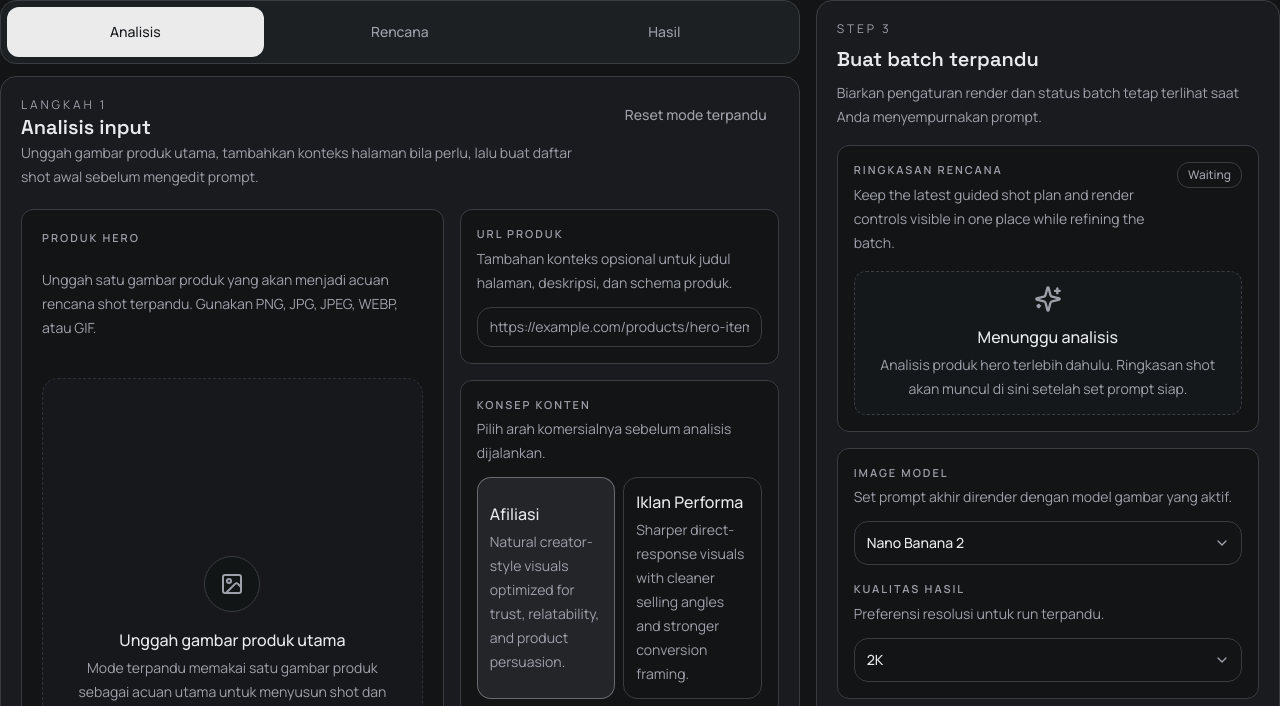
Test: GuidedWorkspace › translates guided analyze, plan, and results copy when the active locale is Indonesian
Check: the heading "Analisis input" is shown, box [21,114,151,140]
Check: the button "Reset mode terpandu" is shown, box [613,97,779,133]
Press the mouse on the tab "Rencana" at coordinates (400, 32), box [272,7,528,57]
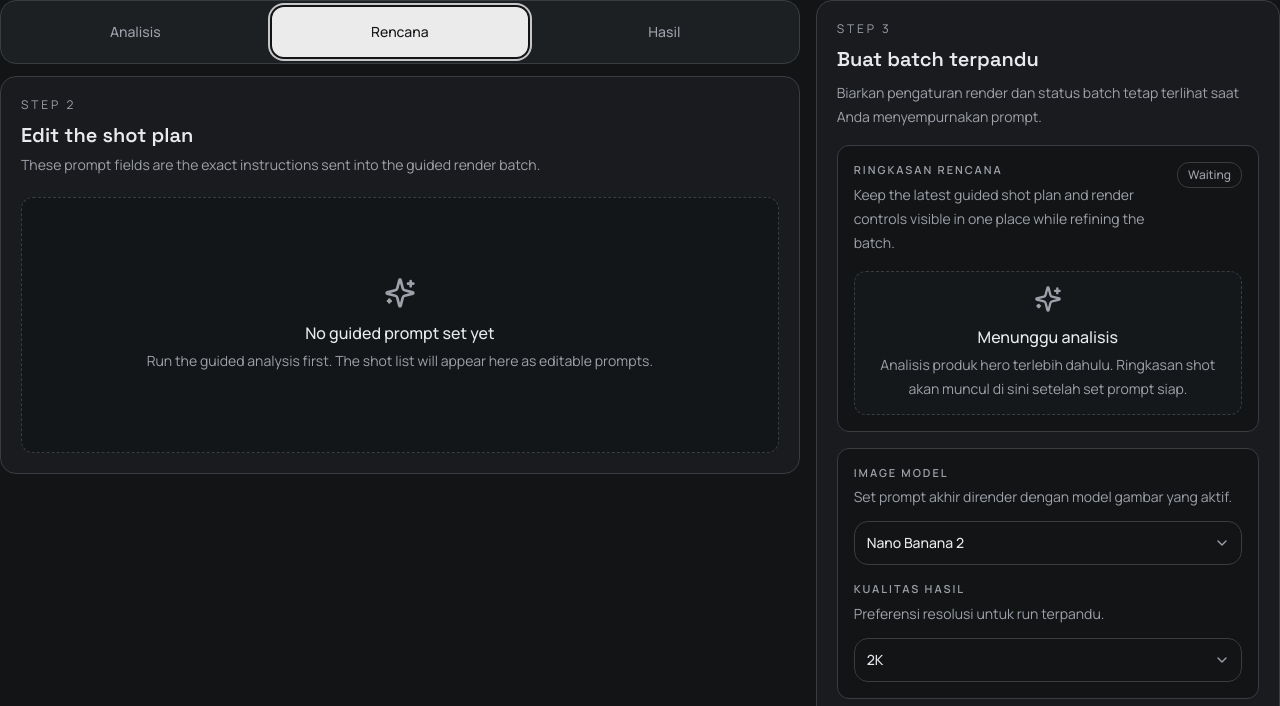
Click the tab "Rencana".
click(400, 32)  # box [272,7,528,57]
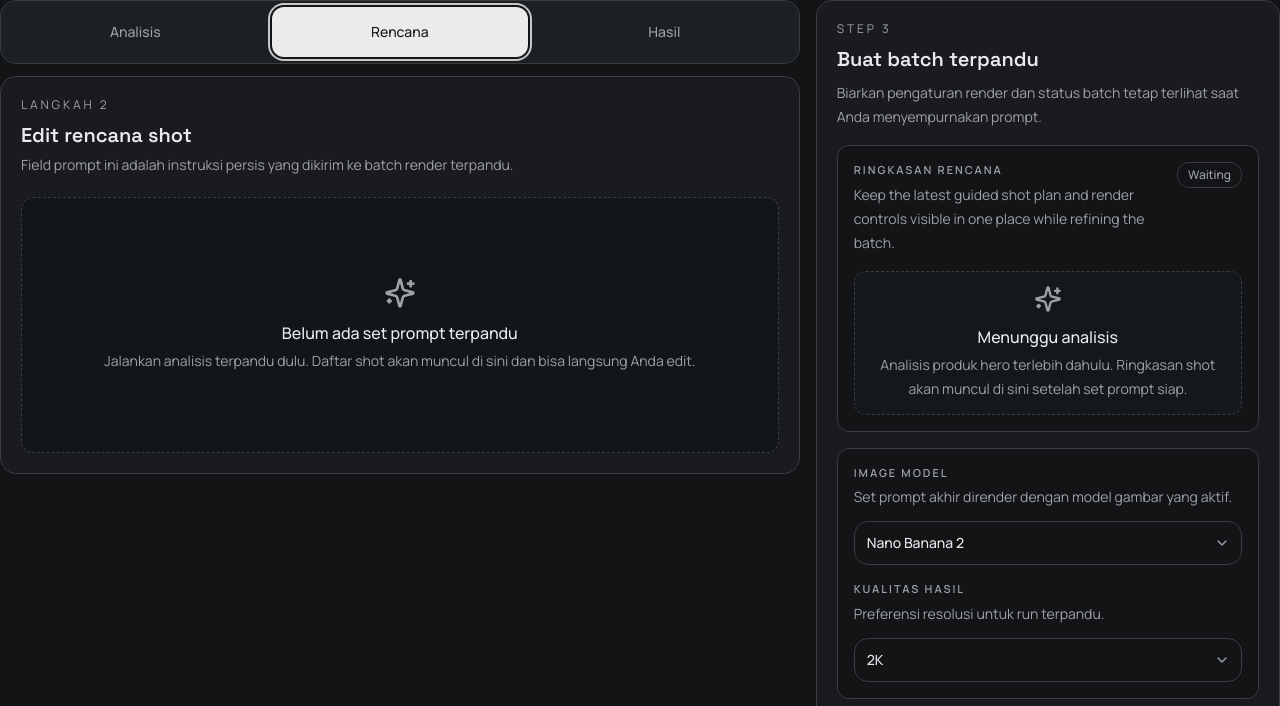
Check: the text "Belum ada set prompt terpandu" is shown, box [282,322,518,344]
Check: the text "Jalankan analisis terpandu dulu. Daftar shot akan muncul di sini dan bisa langsung Anda edit." is shown, box [104,351,695,370]
Press the mouse on the tab "Hasil" at coordinates (664, 32), box [536,7,793,57]
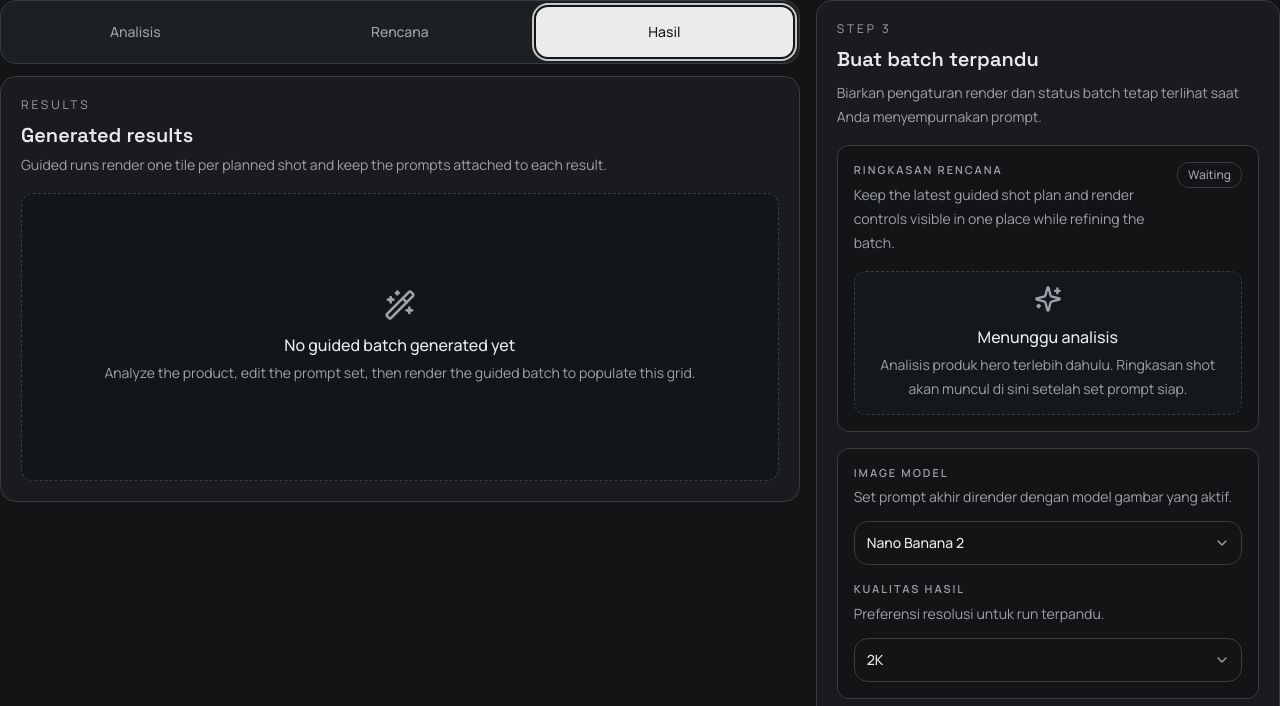
Click the tab "Hasil".
click(664, 32)  # box [536,7,793,57]
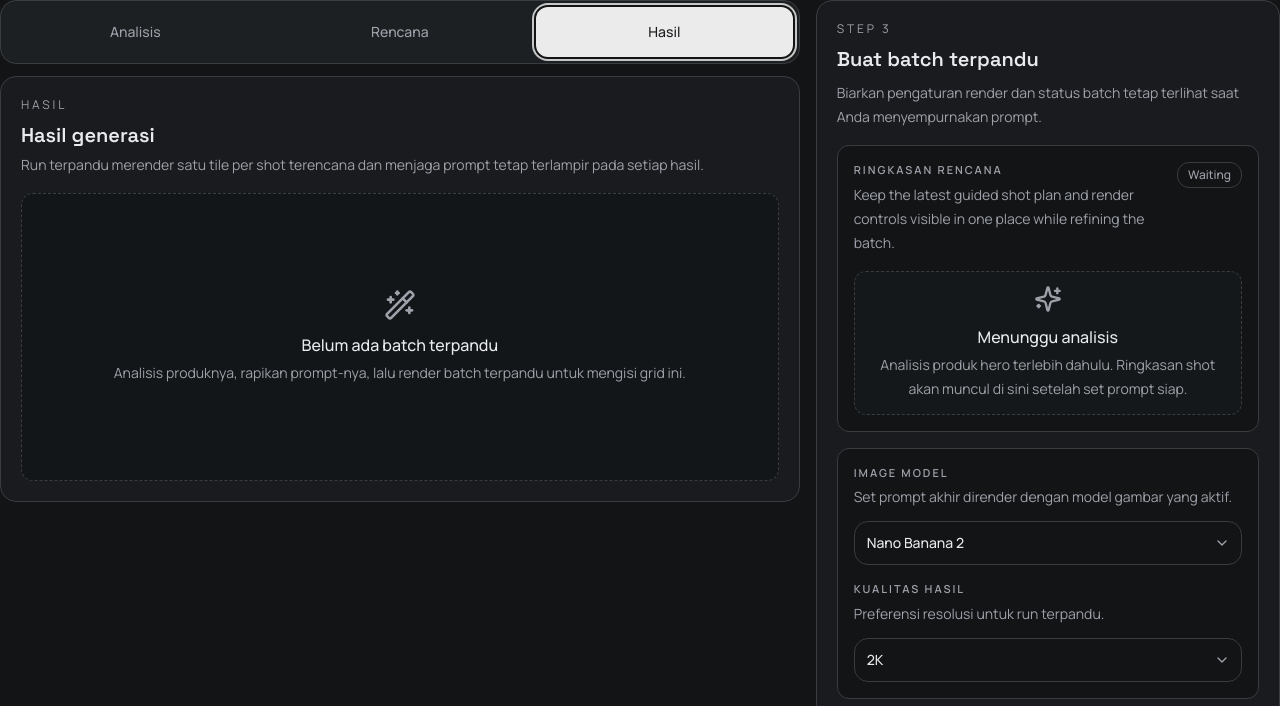
Check: the text "Belum ada batch terpandu" is shown, box [302,334,498,356]
Check: the text "Analisis produknya, rapikan prompt-nya, lalu render batch terpandu untuk mengisi grid ini." is shown, box [114,363,686,382]
